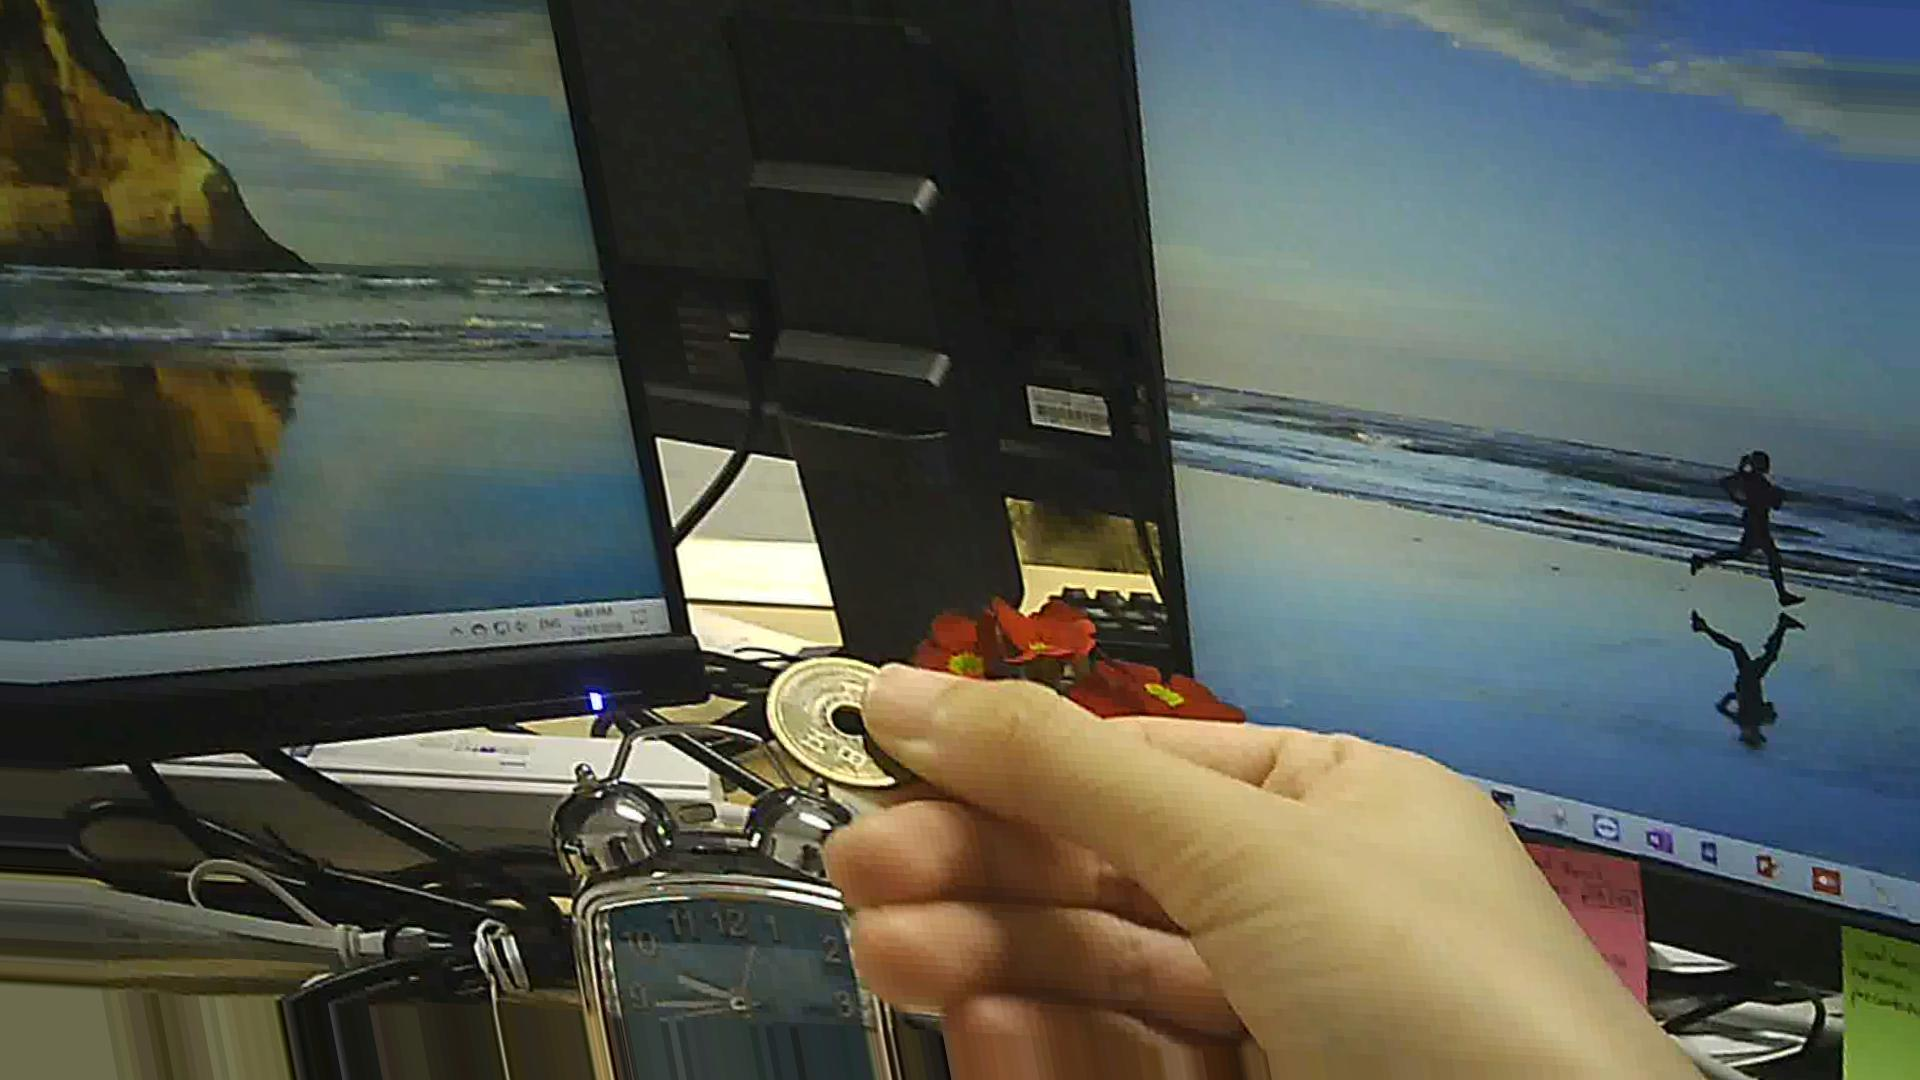5 Yen: (756, 647, 934, 794)
